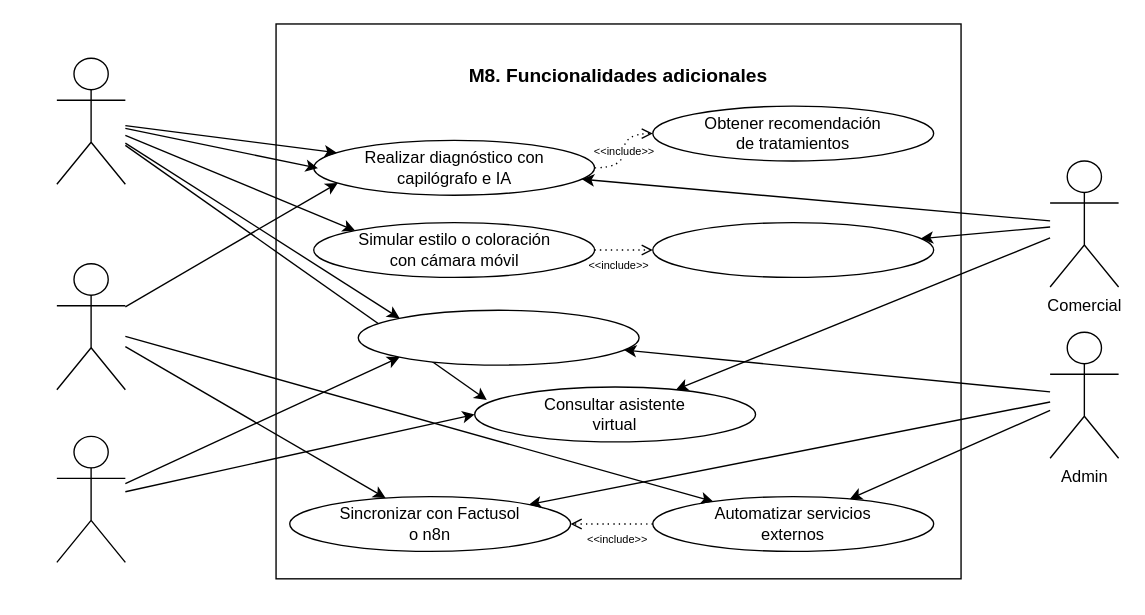
Some shapes in this 1145 by 615 pixel diagram are drawn without their labels. The centre of each missing label's shape, as x and y in pixels:
Cliente final: point 90,498
Cliente profesional: point 90,120
Gestionar reservas online: point 498,337
Reconocer productos mediante cámara: point 792,249
Servicios externos IA / Factusol / n8n: point 90,326
